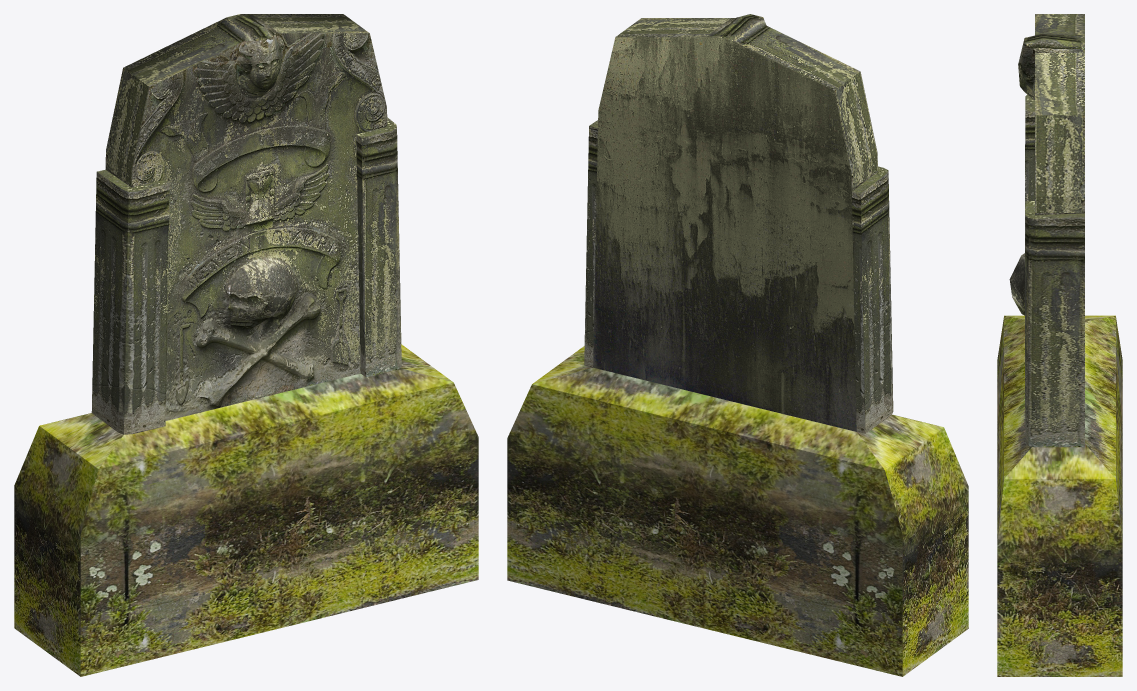
File: Headstone_08.fbx
The picture shows the model from 3 angles, left to right: view 1: azimuth 30°, elevation 25°; view 2: azimuth 150°, elevation 25°; view 3: azimuth 270°, elevation 25°; orthographic projection. The views are drawn at different scales.
Visible parts, largest first — view 1: headstone8; view 2: headstone8; view 3: headstone8.
Boxes of the visible parts, x1,y1,x2,y2 form: headstone8: (14,14,478,676); headstone8: (507,14,968,676); headstone8: (997,14,1122,676).
Bounding box in the file's own units: 1.46 × 2.04 × 0.4219.
